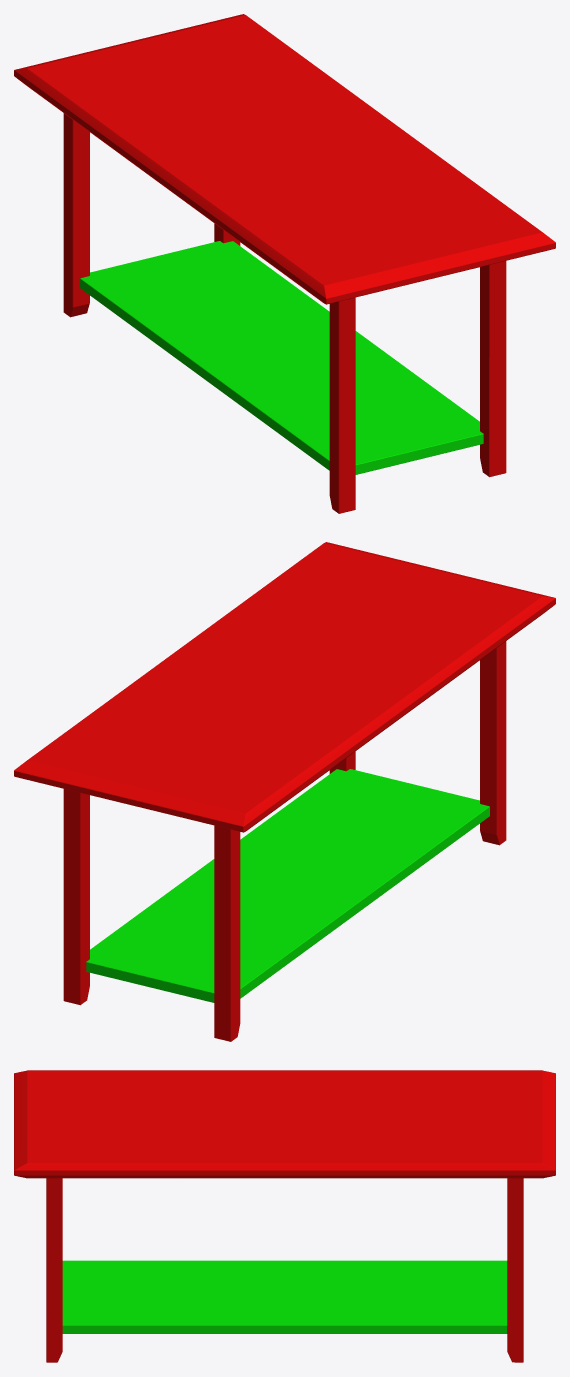
The model's file is 3D_Mesa_Trabajo.fbx.
3 views of the same model, one above another, from view 1: azimuth 30°, elevation 25°; view 2: azimuth 150°, elevation 25°; view 3: azimuth 270°, elevation 25° (orthographic). The views are drawn at different scales.
Visible parts, largest first — view 1: Mesa_de_trabajo; view 2: Mesa_de_trabajo; view 3: Mesa_de_trabajo.
Part boxes in pixels (box(x1,y1,x2,y2)): Mesa_de_trabajo: box(14, 14, 555, 513); Mesa_de_trabajo: box(14, 542, 555, 1041); Mesa_de_trabajo: box(14, 1070, 555, 1362).
Size of the model in its own units: 89.43 by 90.17 by 210.
